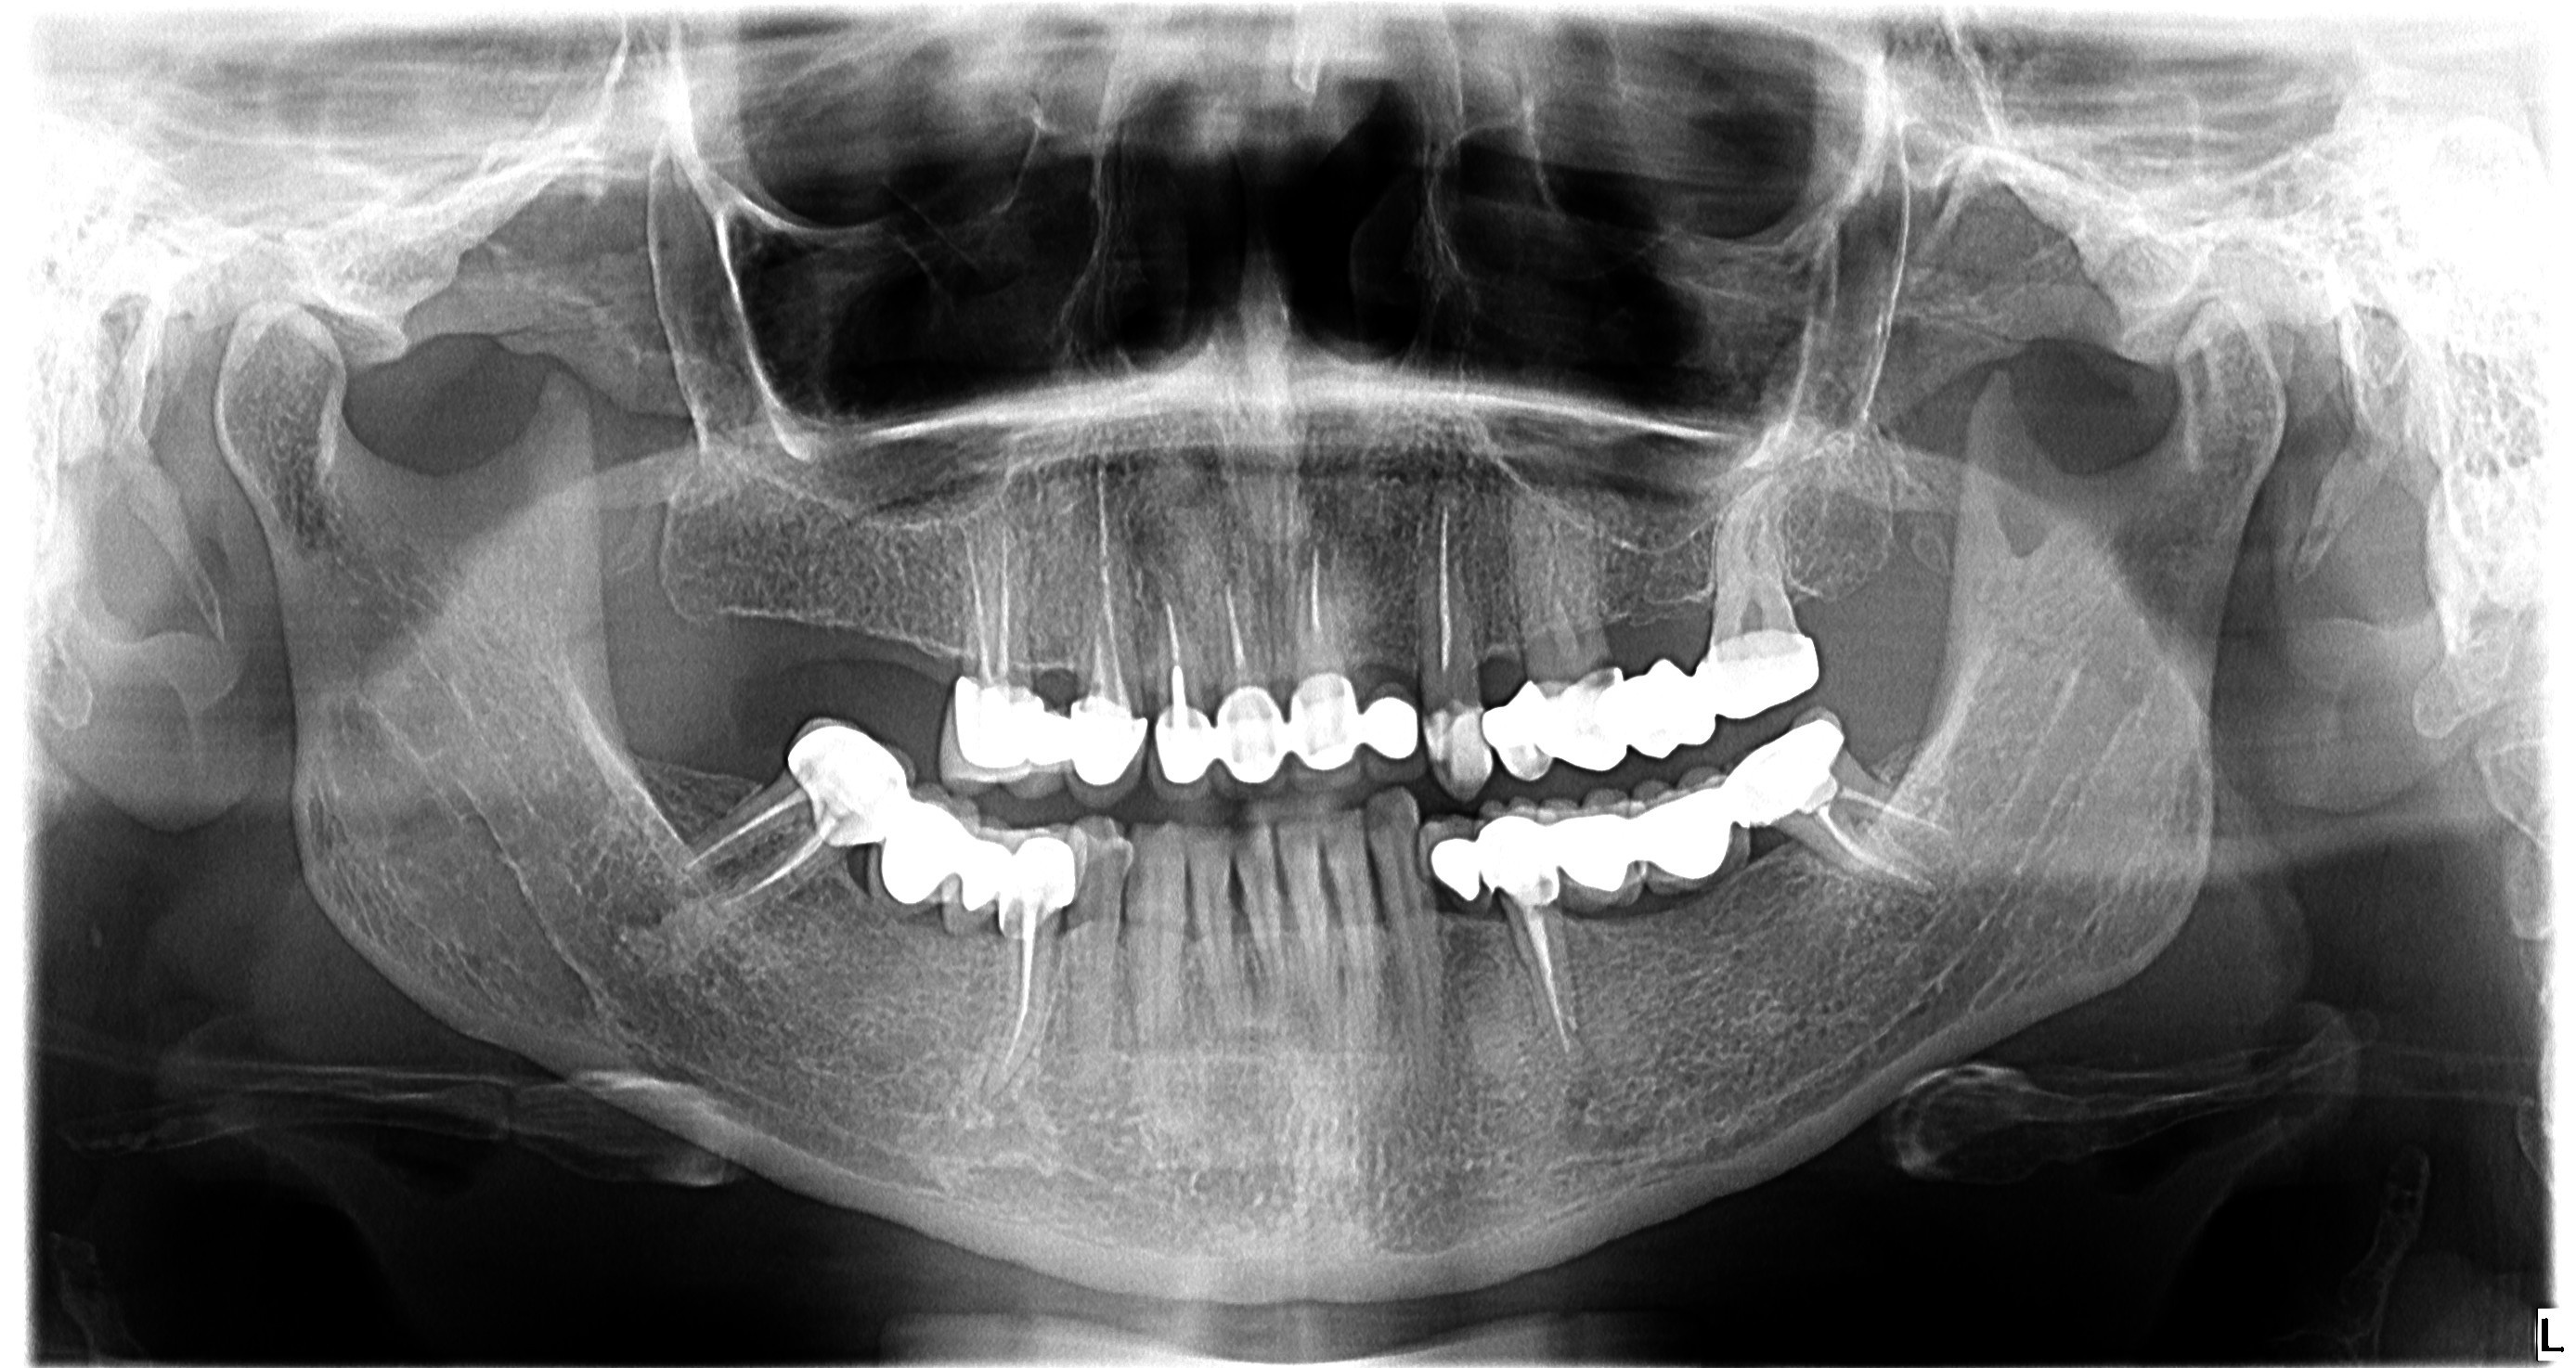BON: (719, 245, 2450, 906)
END: (818, 329, 2576, 1232), (729, 368, 2310, 1368), (668, 126, 2155, 828), (453, 387, 1504, 1368), (605, 150, 1971, 838), (574, 181, 1835, 877), (549, 189, 1751, 896), (499, 92, 1639, 796), (254, 324, 1084, 1250), (429, 150, 1457, 833)
OBT: (663, 302, 2164, 1104)
PRR: (762, 334, 2501, 1225), (591, 336, 2228, 1279), (808, 288, 2576, 1126), (770, 245, 2576, 971), (760, 259, 2477, 1017), (675, 259, 2298, 1049), (443, 267, 1862, 1063), (417, 353, 1498, 1283), (359, 279, 1506, 1072), (390, 332, 1346, 1257), (317, 285, 1235, 1133)
